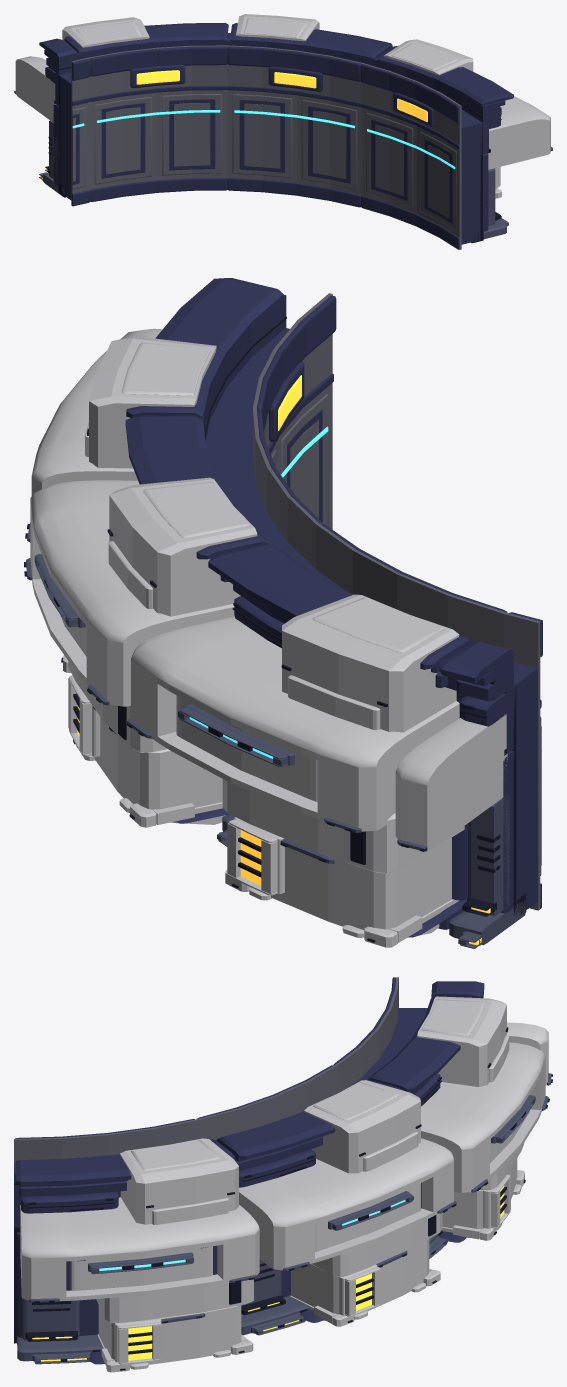
Rendered from hull.arc2.b.glb.
3 views of the same model, one above another, from view 1: azimuth 30°, elevation 25°; view 2: azimuth 150°, elevation 25°; view 3: azimuth 270°, elevation 25° (orthographic). The views are drawn at different scales.
Visible parts, largest first — view 1: GEO-hull.arc2.b; view 2: GEO-hull.arc2.b; view 3: GEO-hull.arc2.b.
Boxes of the visible parts, left/top/right/bottom form: GEO-hull.arc2.b: left=14, top=14, right=552, bottom=249; GEO-hull.arc2.b: left=24, top=278, right=542, bottom=948; GEO-hull.arc2.b: left=14, top=977, right=552, bottom=1372.
Bounding box in the file's own units: 2.52 × 1 × 2.52.
